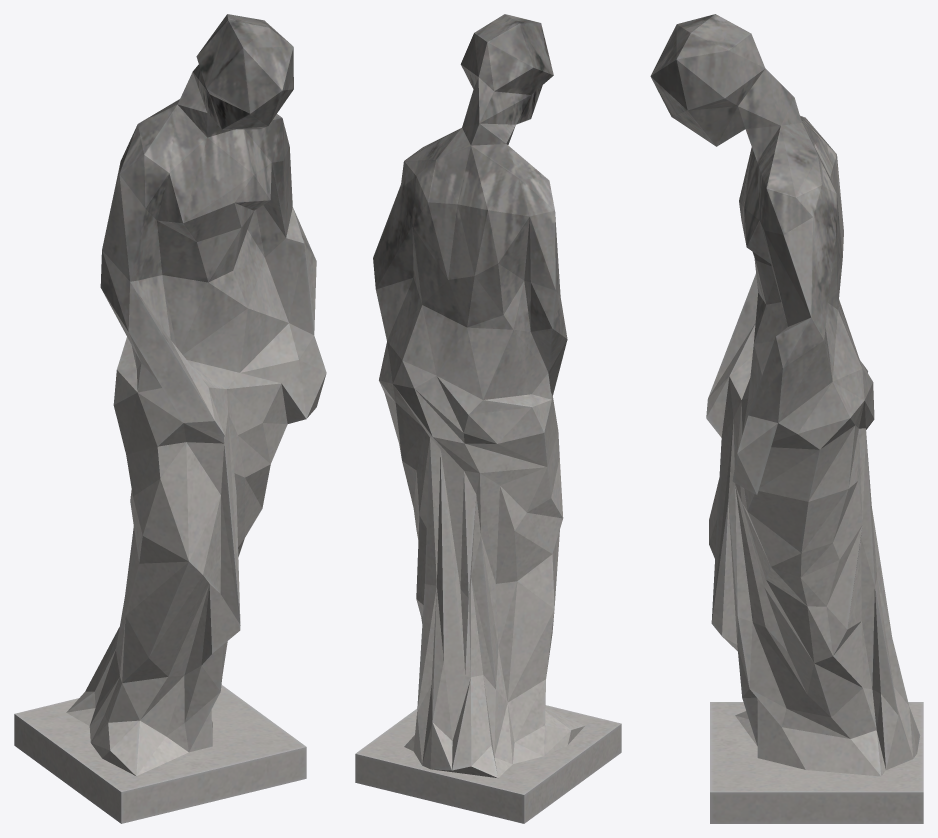
Rendered from Sculpture1.glb.
3 views of the same model, side by side, from view 1: azimuth 30°, elevation 25°; view 2: azimuth 150°, elevation 25°; view 3: azimuth 270°, elevation 25° (orthographic). The views are drawn at different scales.
Visible parts, largest first — view 1: SM_Sculpture05; view 2: SM_Sculpture05; view 3: SM_Sculpture05.
Part boxes in pixels (<box>): SM_Sculpture05: <box>14,14,326,823</box>; SM_Sculpture05: <box>355,14,621,823</box>; SM_Sculpture05: <box>650,14,923,823</box>.
Bounding box in the file's own units: 0.5472 × 1.75 × 0.5596.
1 material, 1 textured.
